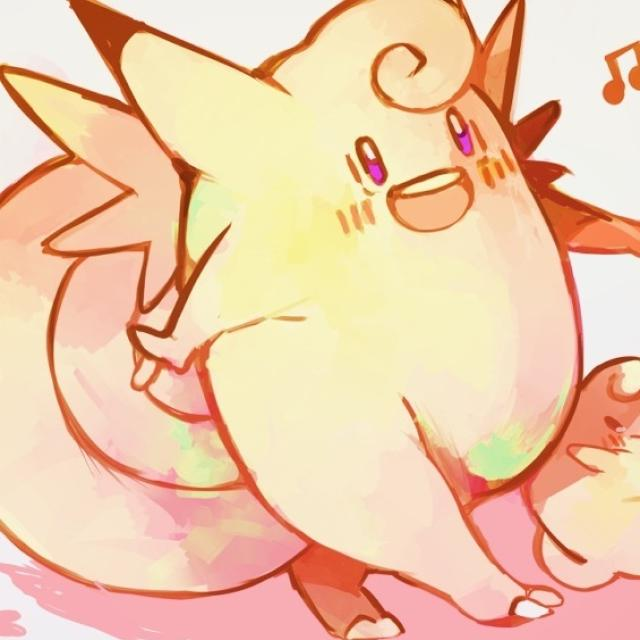Clefable: (160, 4, 601, 538)
